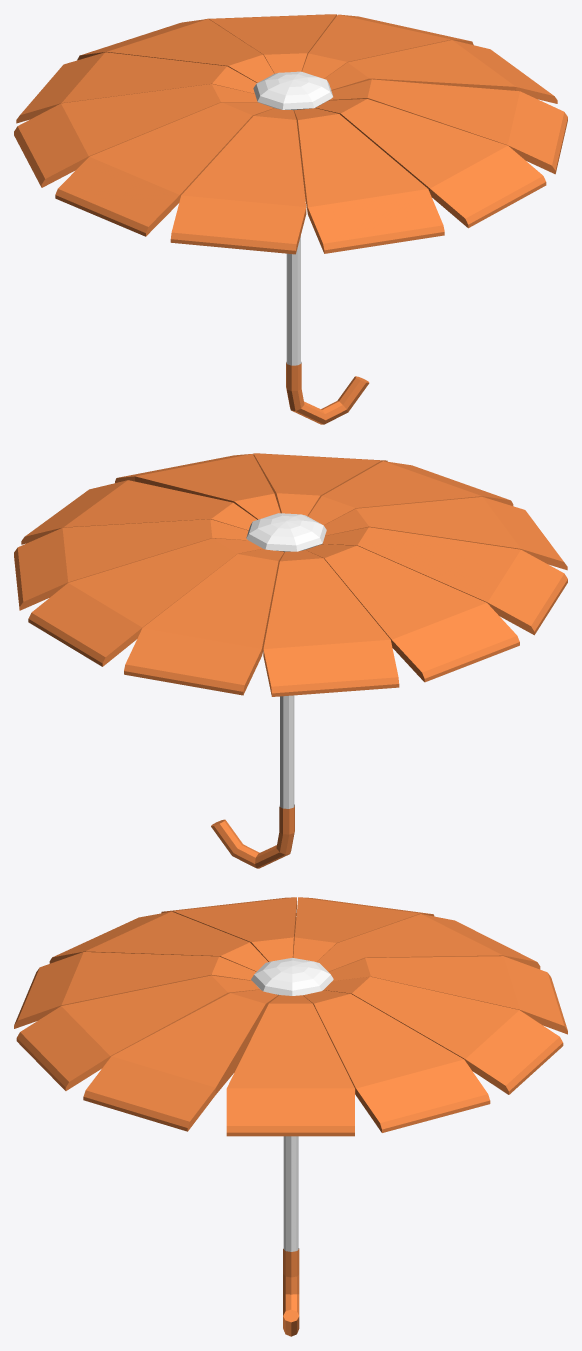
File: Umbrella_3.fbx
The picture shows the model from 3 angles, top to bottom: view 1: azimuth 30°, elevation 25°; view 2: azimuth 150°, elevation 25°; view 3: azimuth 270°, elevation 25°; orthographic projection.
Visible parts, largest first — view 1: Umbrella; view 2: Umbrella; view 3: Umbrella.
Part boxes in pixels (box(x1,y1,x2,y2)): Umbrella: box(14, 14, 567, 424); Umbrella: box(14, 453, 567, 868); Umbrella: box(14, 897, 567, 1336).
Bounding box in the file's own units: 5.91 × 4.19 × 5.99.
